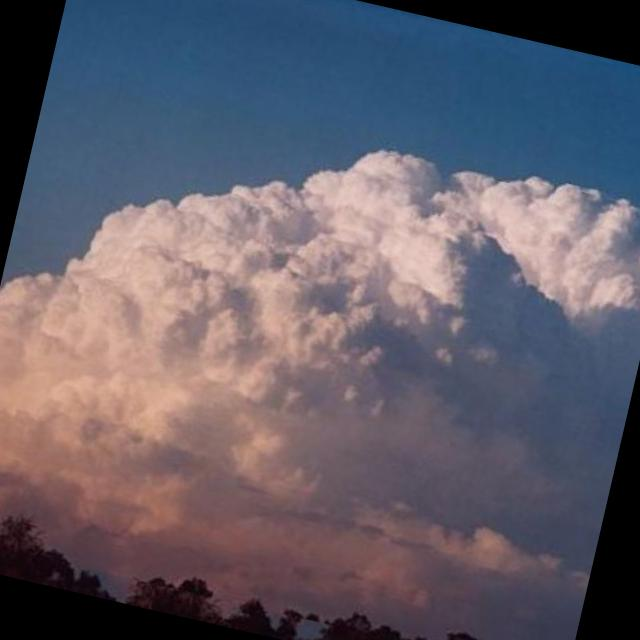cumulonimbus: (0, 56, 640, 638)
